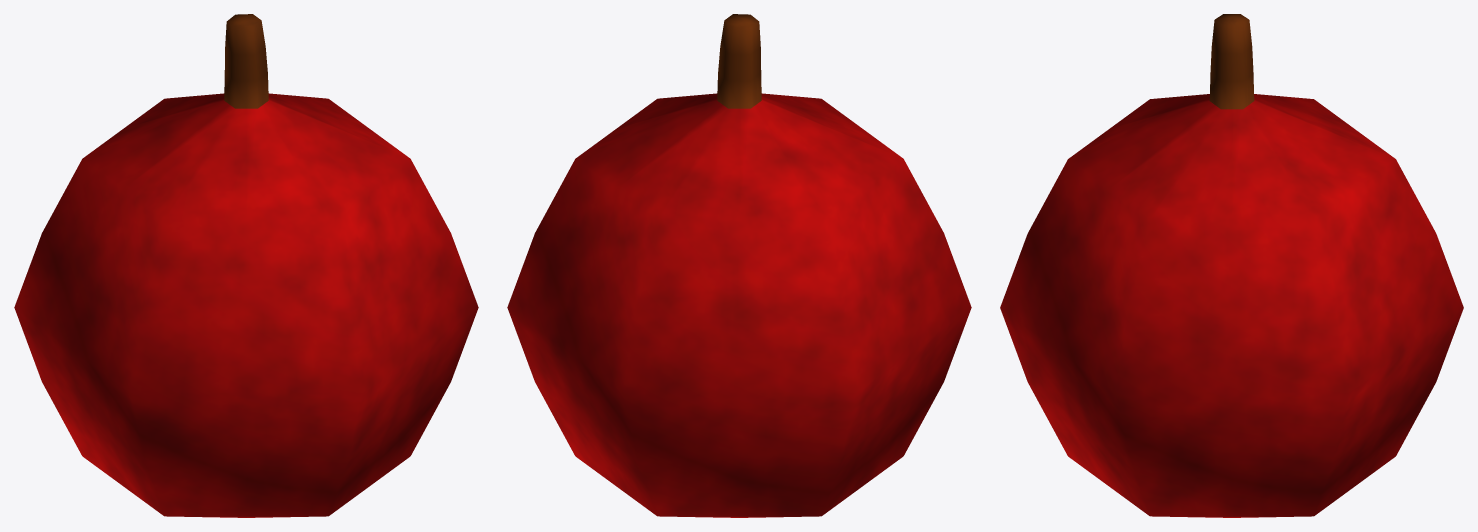
The model's file is Apple1.glb.
3 renders of one model, left to right at view 1: azimuth 30°, elevation 25°; view 2: azimuth 150°, elevation 25°; view 3: azimuth 270°, elevation 25°, orthographic.
Visible parts, largest first — view 1: Apple; view 2: Apple; view 3: Apple.
Part boxes in pixels (x1,y1,x2,y2): Apple: (14,14,478,517); Apple: (507,14,971,517); Apple: (1000,14,1463,517).
Size of the model in its own units: 1.73 by 2.37 by 2.
2 materials, 2 textured.
